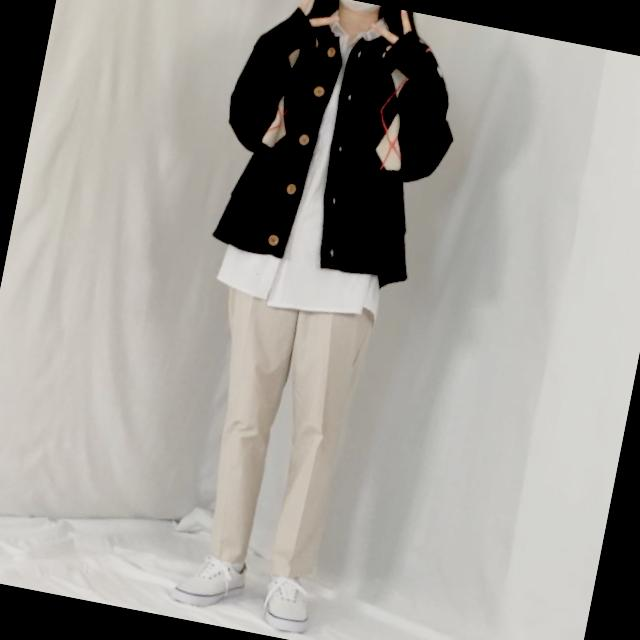cardigan: (198, 0, 475, 294)
cottonpants: (173, 280, 378, 586)
